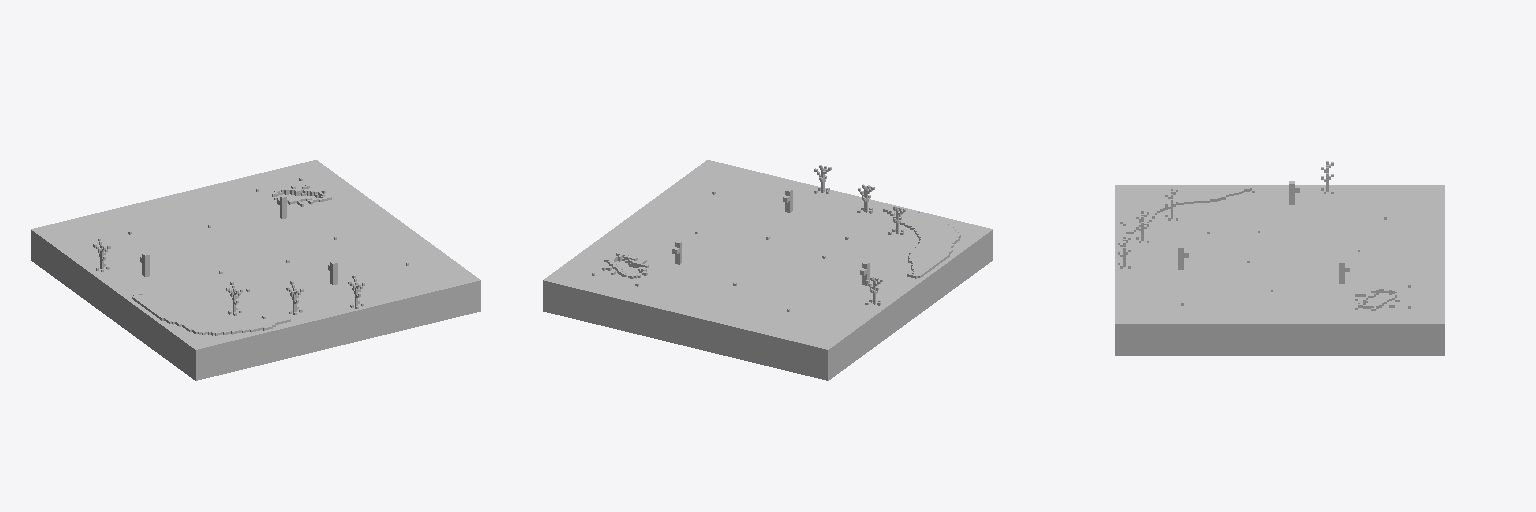
The model's file is Map (7).obj.
The picture shows the model from 3 angles: view 1: azimuth 30°, elevation 25°; view 2: azimuth 150°, elevation 25°; view 3: azimuth 270°, elevation 25°; orthographic projection.
Visible parts, largest first — view 1: ALL MAP!!!!!!!!!!!-4; view 2: ALL MAP!!!!!!!!!!!-4; view 3: ALL MAP!!!!!!!!!!!-4.
Part boxes in pixels (left/top/right/bottom): ALL MAP!!!!!!!!!!!-4: left=31, top=160, right=480, bottom=380; ALL MAP!!!!!!!!!!!-4: left=543, top=160, right=992, bottom=380; ALL MAP!!!!!!!!!!!-4: left=1115, top=161, right=1444, bottom=355.
Bounding box in the file's own units: 125 × 25 × 125.